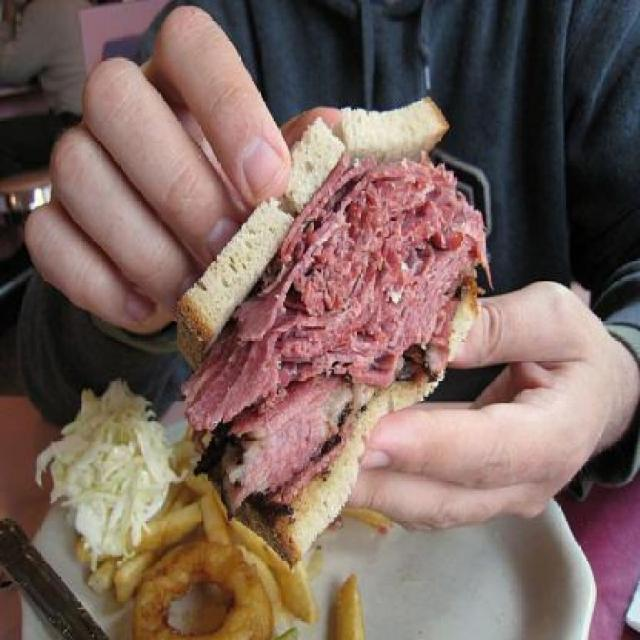Sandwich: (172, 104, 478, 570)
